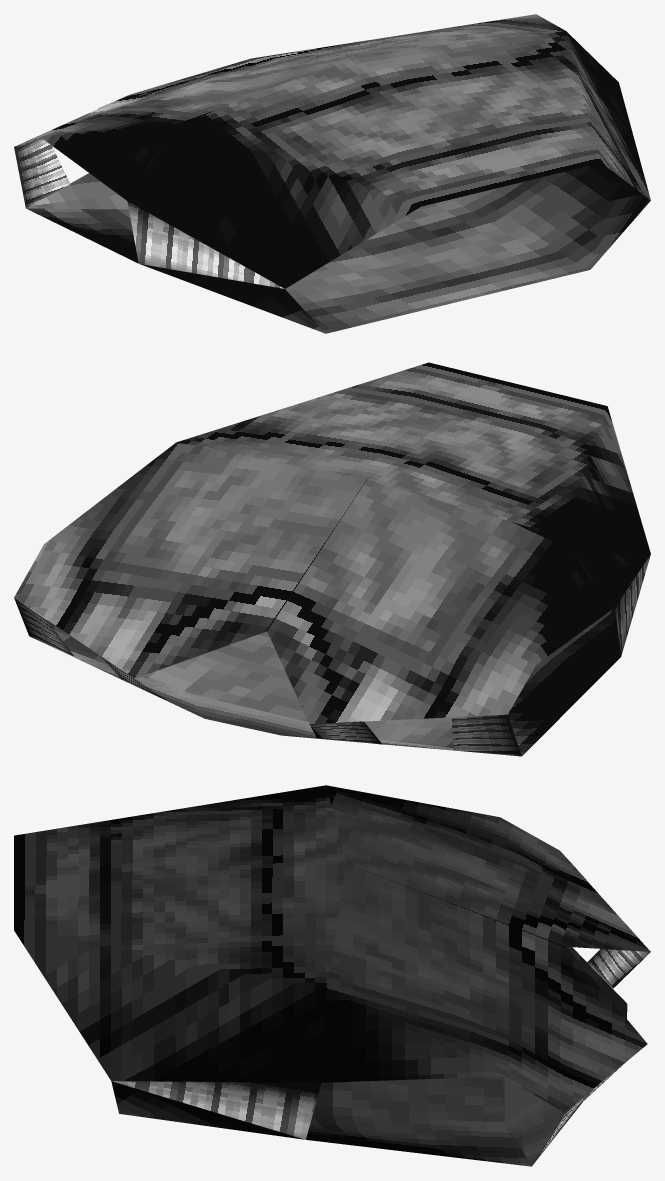
File: PbodyarmourZ.obj
The picture shows the model from 3 angles, top to bottom: view 1: azimuth 30°, elevation 25°; view 2: azimuth 150°, elevation 25°; view 3: azimuth 270°, elevation 25°; orthographic projection. The views are drawn at different scales.
Bounding box in the file's own units: 394 × 142 × 406.
Materials: 8 (8 with a texture image).
